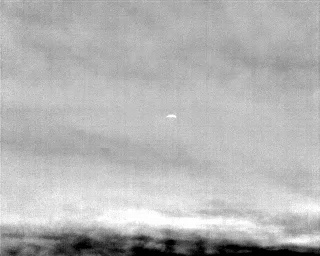BIRD: (164, 111, 179, 123)
